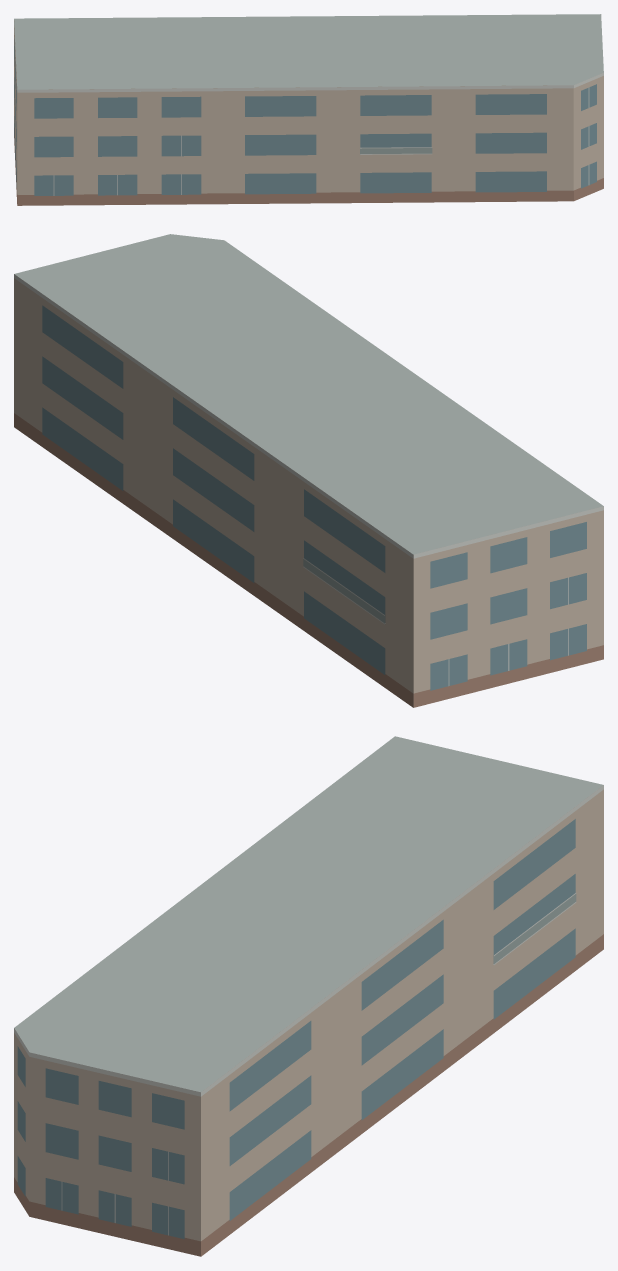
The model's file is survey-upis-32877615.glb.
3 renders of one model, top to bottom at view 1: azimuth 30°, elevation 25°; view 2: azimuth 150°, elevation 25°; view 3: azimuth 270°, elevation 25°, orthographic. The views are drawn at different scales.
Visible parts, largest first — view 1: survey-upis-32877615.tmp; view 2: survey-upis-32877615.tmp; view 3: survey-upis-32877615.tmp.
Boxes of the visible parts, x1,y1,x2,y2 form: survey-upis-32877615.tmp: (14,14,603,205); survey-upis-32877615.tmp: (14,234,603,707); survey-upis-32877615.tmp: (14,736,603,1256).
Bounding box in the file's own units: 42.52 × 9.15 × 29.76.
